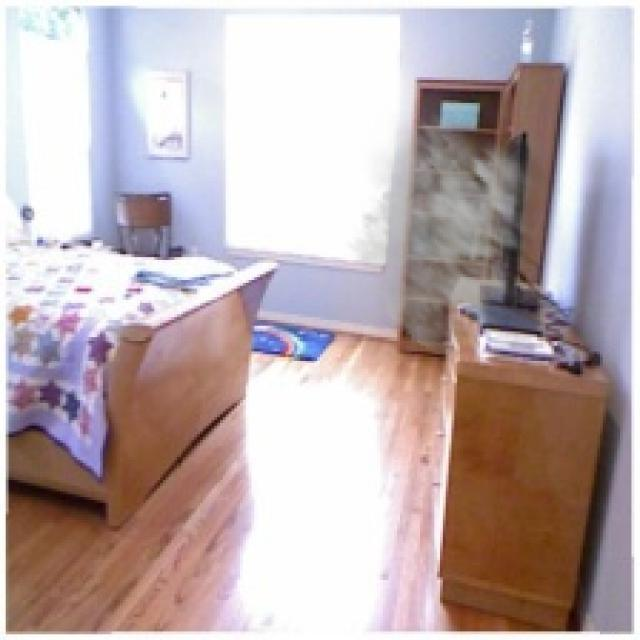Smoke: (346, 103, 566, 363)
